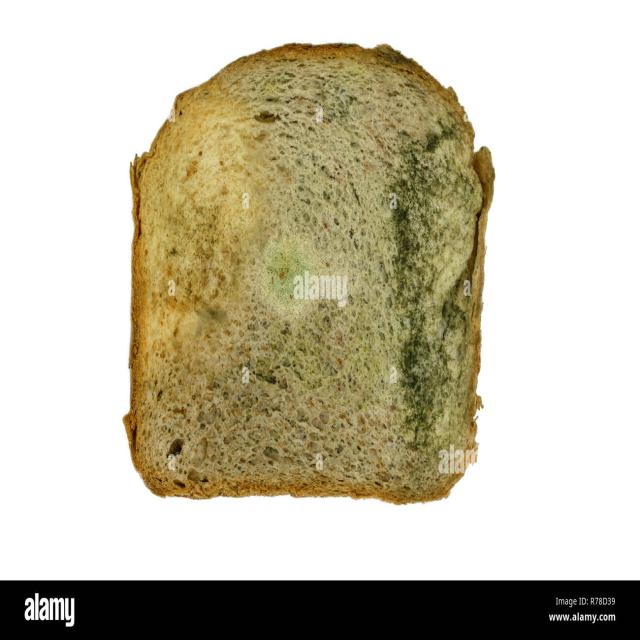organic: (121, 44, 495, 507)
